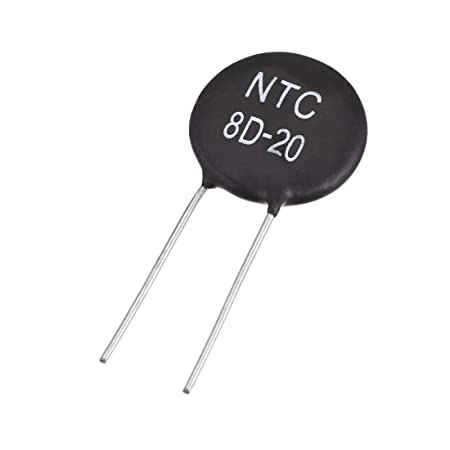capacitor: (139, 26, 415, 285)
